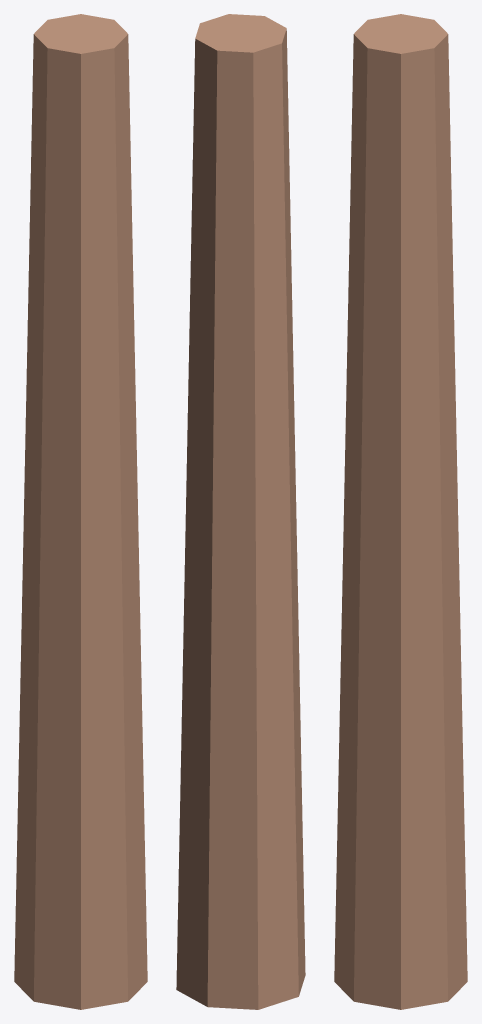
Rendered from wk_buck_lean_upper_arm_v01.glb.
The picture shows the model from 3 angles, left to right: view 1: azimuth 90°, elevation 25°; view 2: azimuth 150°, elevation 25°; view 3: azimuth 270°, elevation 25°; orthographic projection.
Parts seen in each view (by area): view 1: GEO_upper_arm; view 2: GEO_upper_arm; view 3: GEO_upper_arm.
Part boxes in pixels (x1,y1,x2,y2): GEO_upper_arm: (14,14,147,1009); GEO_upper_arm: (176,14,305,1009); GEO_upper_arm: (334,14,467,1009).
Size of the model in its own units: 0.1276 by 1 by 0.1276.
